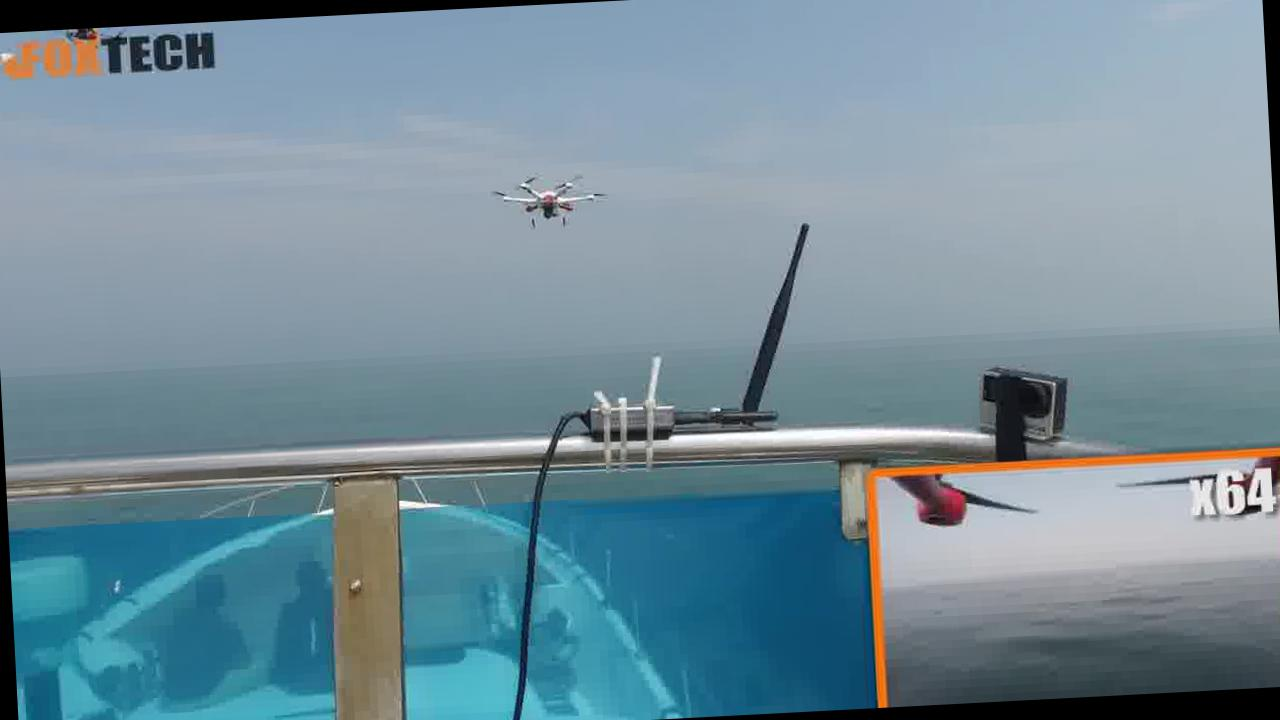drone: (480, 153, 606, 234)
